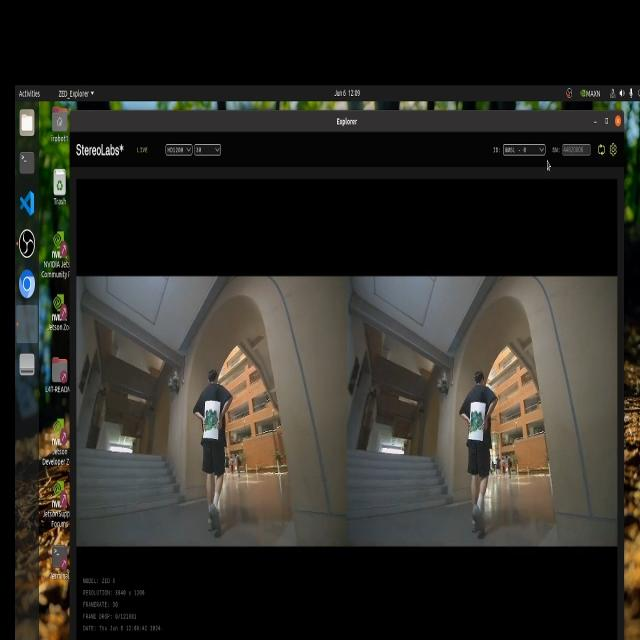green: (203, 410, 223, 447), (469, 412, 484, 436)
